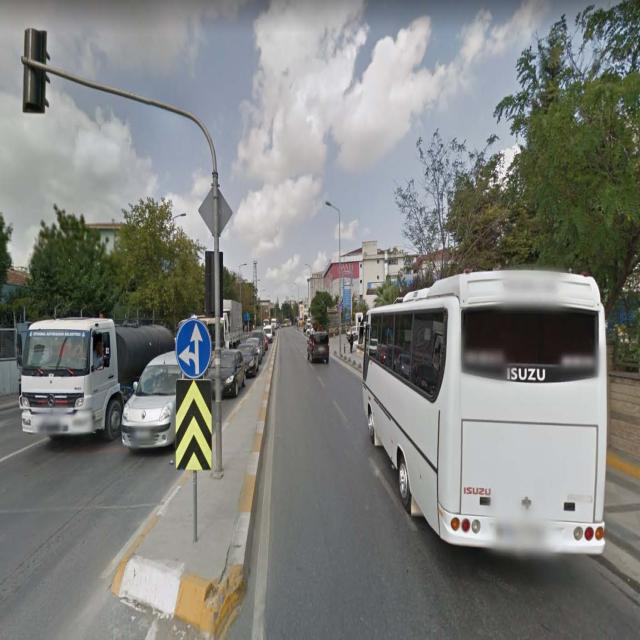ilerisol: (176, 319, 211, 376)
